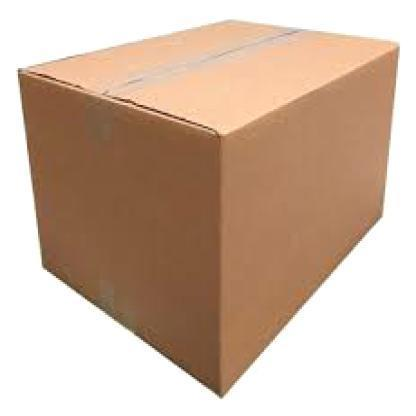box: (15, 20, 404, 409)
